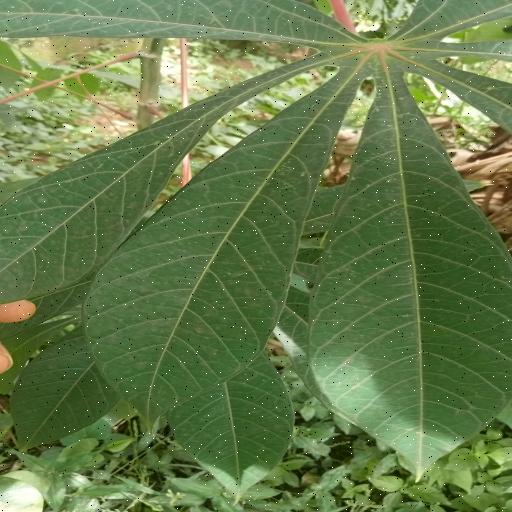Cassava_Healthy: (5, 0, 512, 456)
